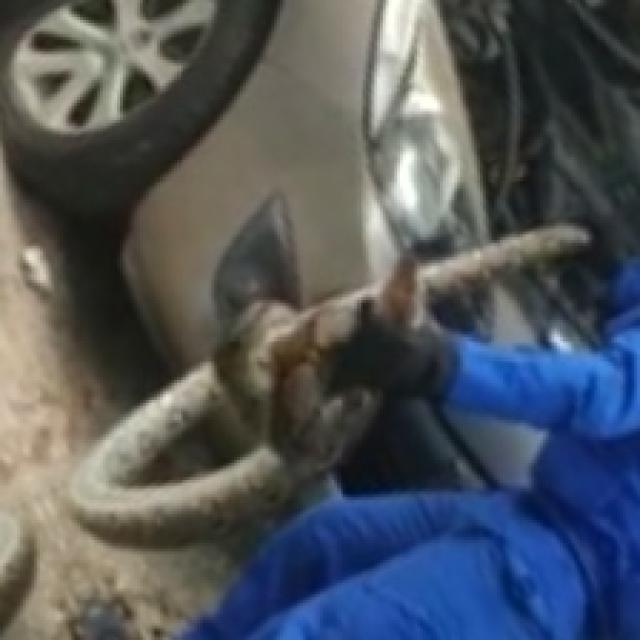reticulated python: (70, 286, 378, 547), (378, 224, 590, 327)
